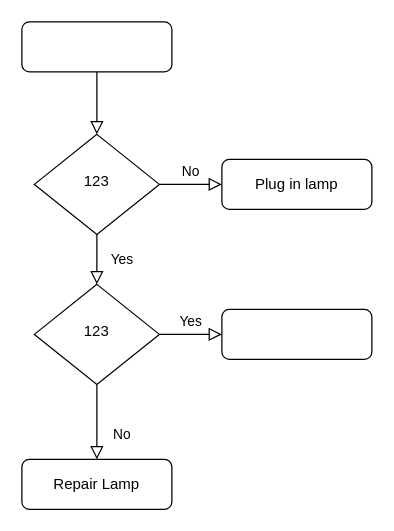
The diagram is 394 pixels wide and 531 high, and some of its shapes have lost their labels. Here are the shapes that lost their labels. From the top down, the box of each, then its label:
(21, 21, 172, 72): Lamp doesn't work
(221, 308, 372, 359): Replace Bulb
